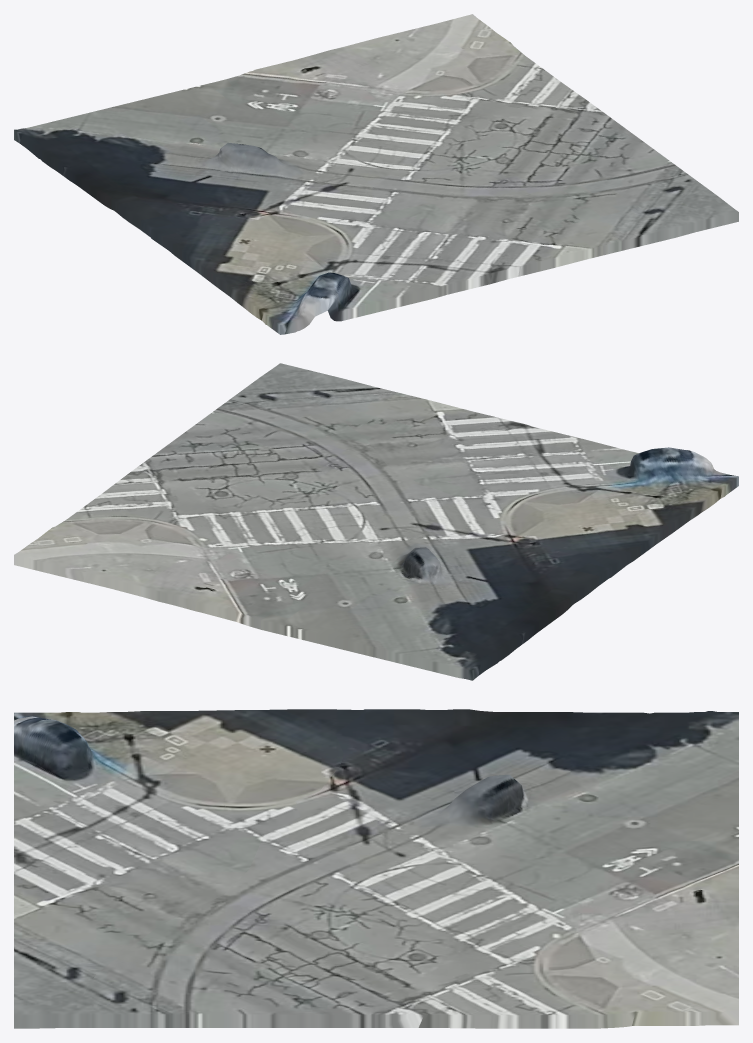
Rendered from z20-167793-405227-h0-yup-uvflip-v3-world.glb.
3 views of the same model, one above another, from view 1: azimuth 30°, elevation 25°; view 2: azimuth 150°, elevation 25°; view 3: azimuth 270°, elevation 25° (orthographic). The views are drawn at different scales.
Bounding box in the file's own units: 30.16 × 2.04 × 30.32.
Materials: 1 (1 with a texture image).
